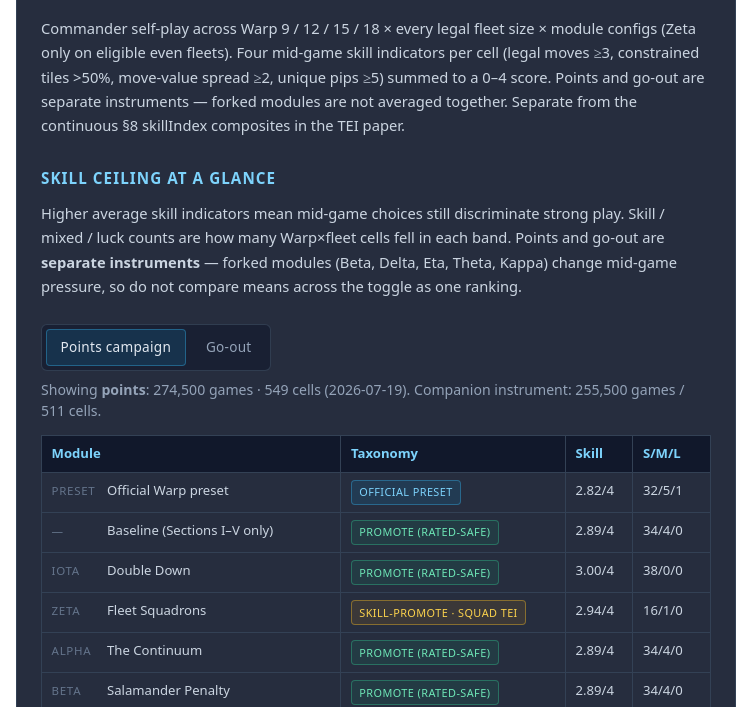
Test case: ModulesPage › switches the skill table between points and go-out instruments
This screenshot has width=753, height=707.
(page scrolled)
Click the tab "Go-out" at point(229, 347), box [191,329,266,366]
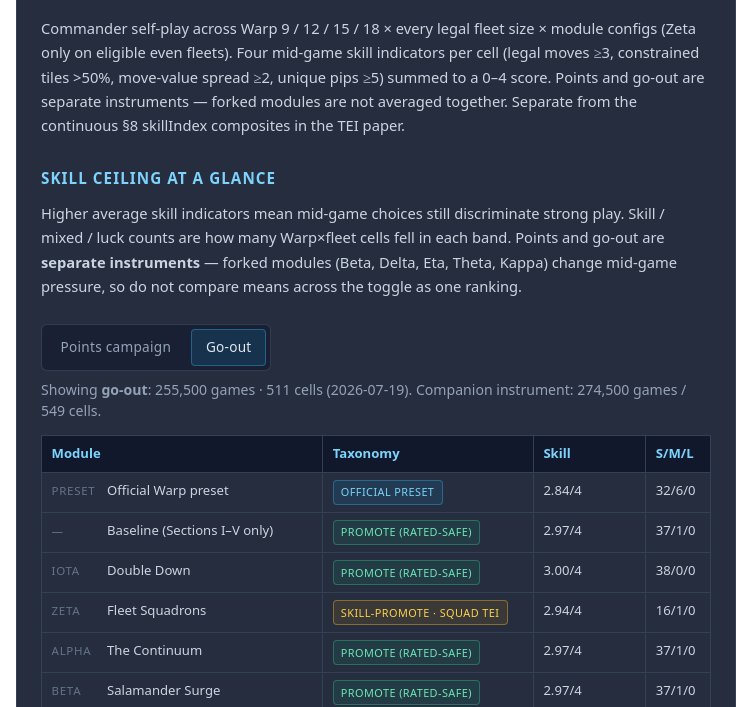
expect the text "Salamander Surge" is shown: met, box [107,681,220,699]
expect the 1st text "2.97/4" is shown: met, box [533,512,646,552]
